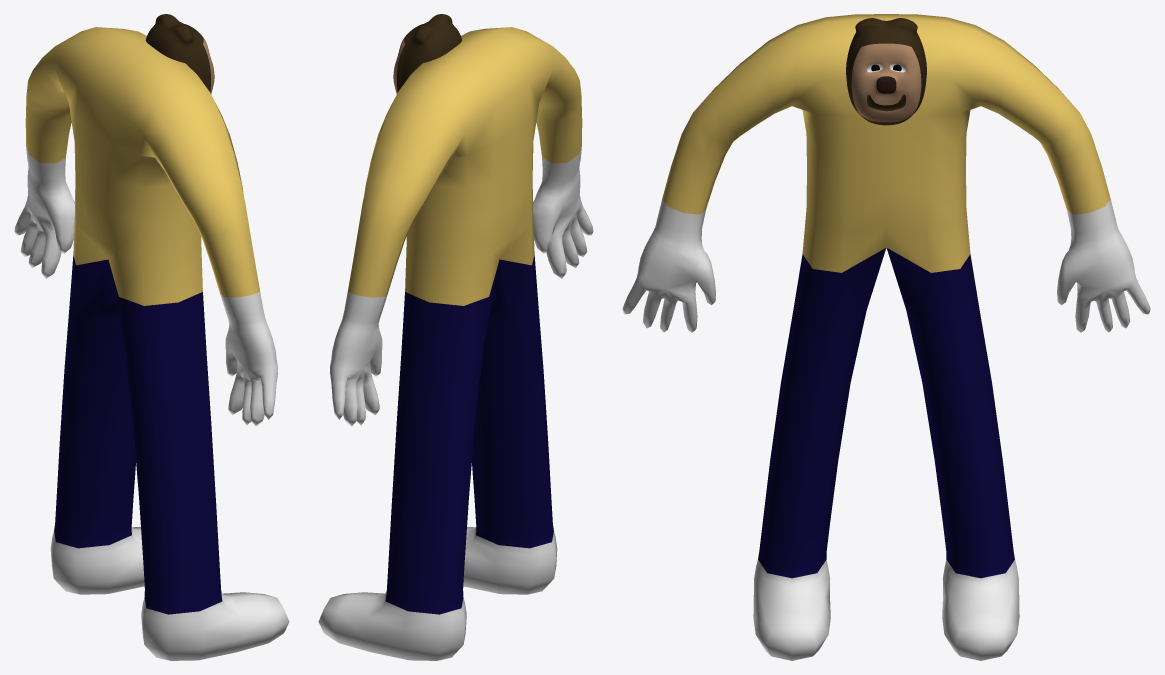
The model's file is oski.fbx.
The picture shows the model from 3 angles, left to right: view 1: azimuth 30°, elevation 25°; view 2: azimuth 150°, elevation 25°; view 3: azimuth 270°, elevation 25°; orthographic projection. The views are drawn at different scales.
Visible parts, largest first — view 1: Body.002, Face.003; view 2: Body.002, Face.003; view 3: Body.002, Face.004, Face.003.
Part boxes in pixels (x1,y1,x2,y2): Body.002: [14, 27, 289, 660]; Face.003: [146, 14, 210, 92]; Body.002: [318, 27, 593, 660]; Face.003: [397, 14, 461, 92]; Body.002: [622, 14, 1150, 660]; Face.004: [851, 43, 921, 122]; Face.003: [846, 18, 926, 125].
Bounding box in the file's own units: 121 × 472 × 364.
